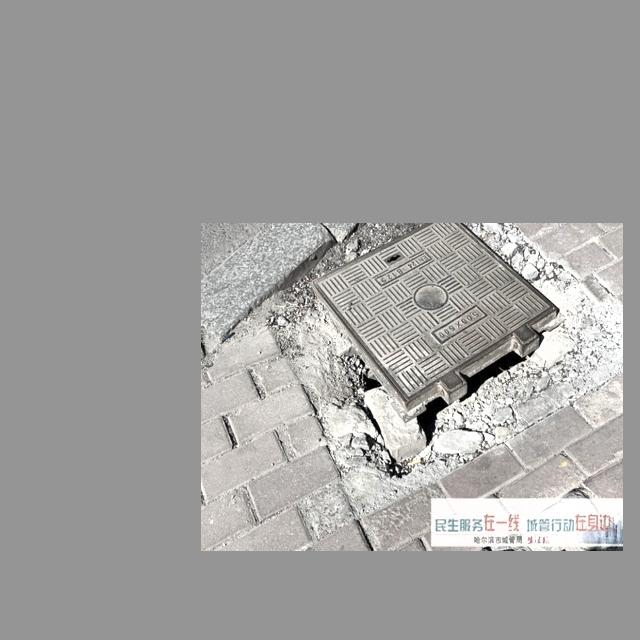circle: (269, 228, 619, 484)
